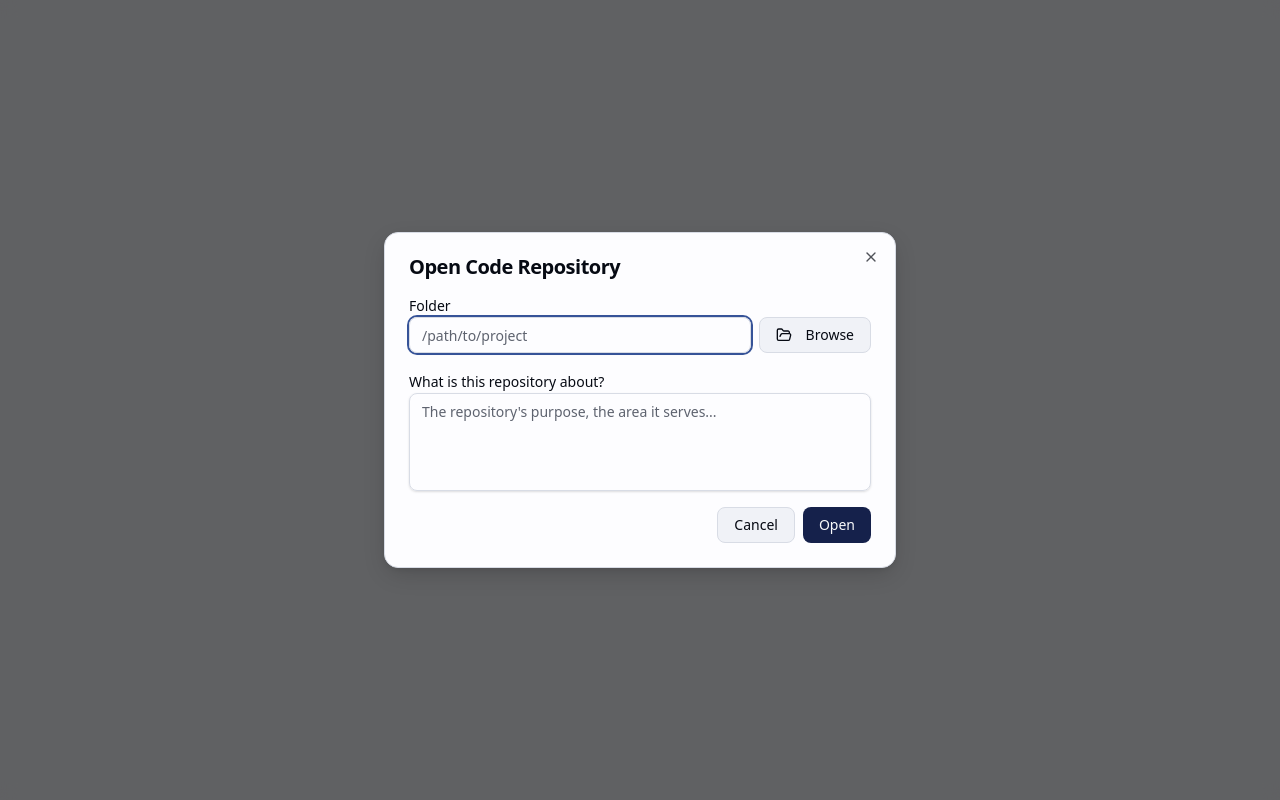
Test: OpenRepositoryDialog folder picker › renders browse button and fills input when folder is chosen via desktop runner
Check: the field with placeholder "/path/to/project" is empty, box [409, 317, 751, 353]
What coordinates should you click on to do the following:
click the button "Browse"
I would click on:
 (815, 335)
Its box is [759, 317, 871, 353].
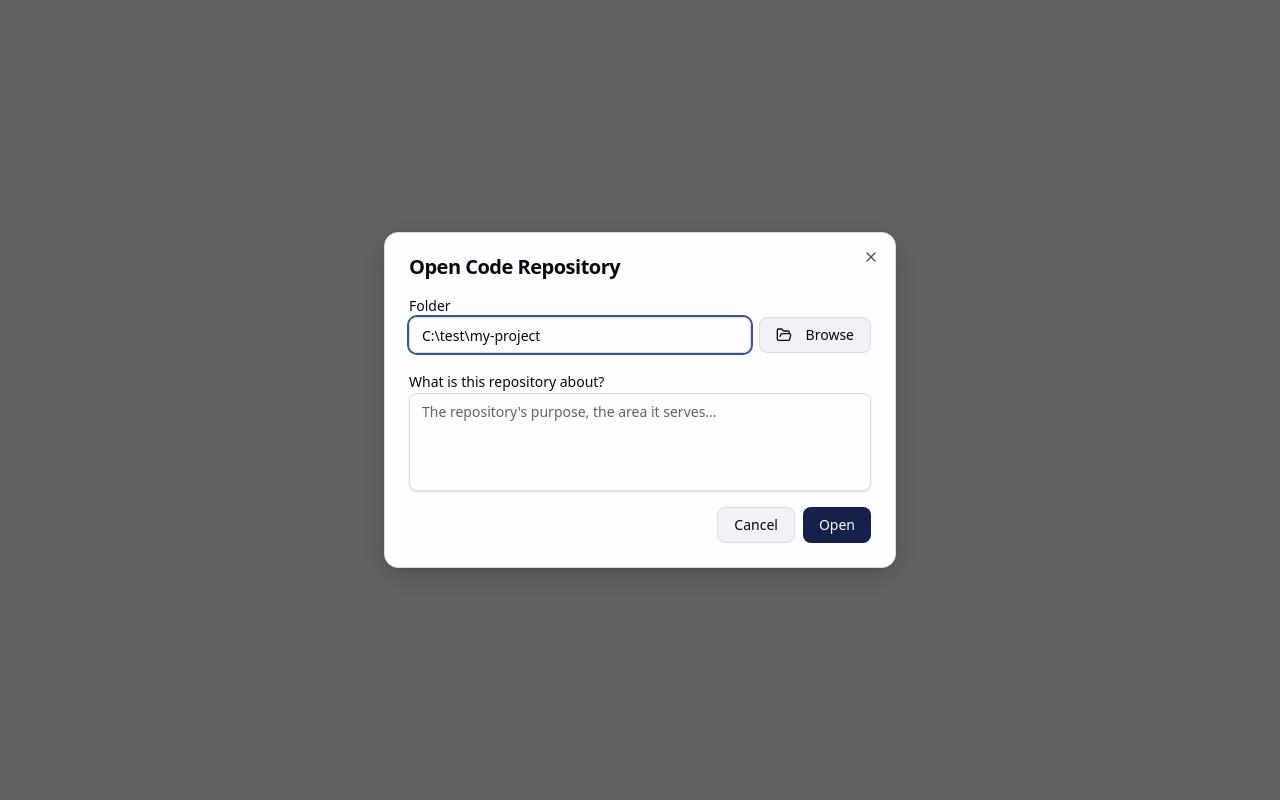
Check: the field with placeholder "/path/to/project" holds "C:\\test\\my-project", box [409, 317, 751, 353]
